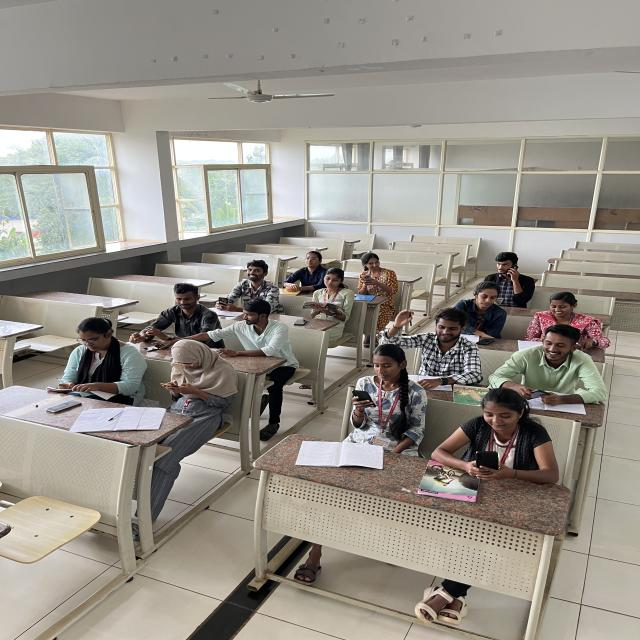Hand Rising: (382, 304, 477, 368)
Reading: (50, 312, 141, 394), (524, 290, 606, 353), (310, 266, 353, 314)
Using Phone: (428, 384, 554, 484), (488, 322, 611, 408), (346, 342, 429, 449), (156, 333, 232, 399), (212, 257, 279, 312), (485, 247, 538, 300), (357, 251, 395, 295)
Writing: (134, 282, 222, 352)
